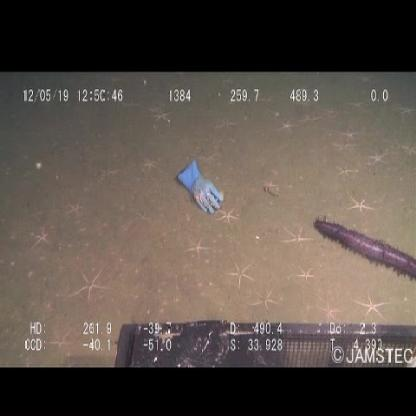Bio: (308, 211, 416, 281)
Rov: (110, 314, 416, 366)
Rác: (173, 156, 226, 218)
